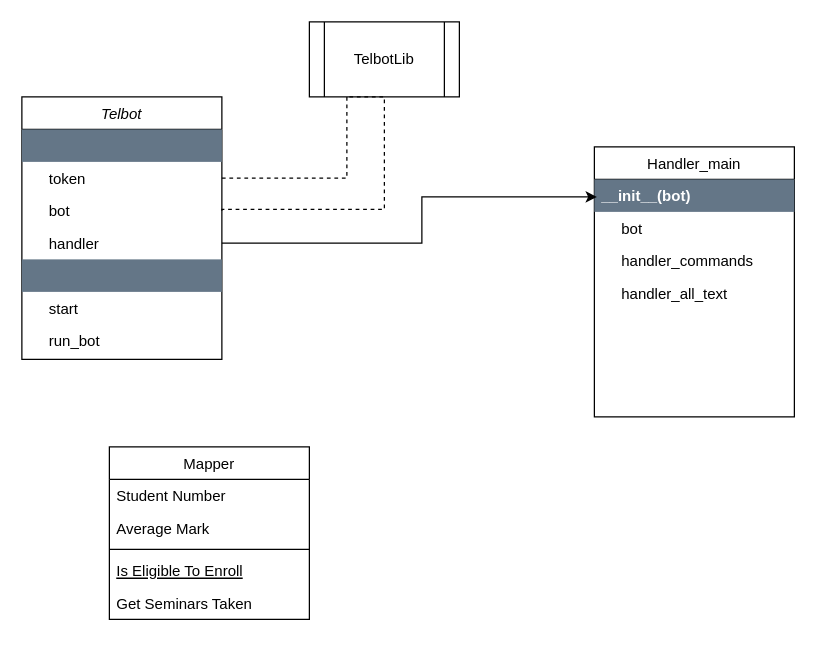
Some shapes in this 816 by 645 pixel diagram are drawn without their labels. Here are the shapes that lost their labels. From the top down, the centre of each, then its label:
At [121,145]: "__init__".
At [121,275]: "def".
